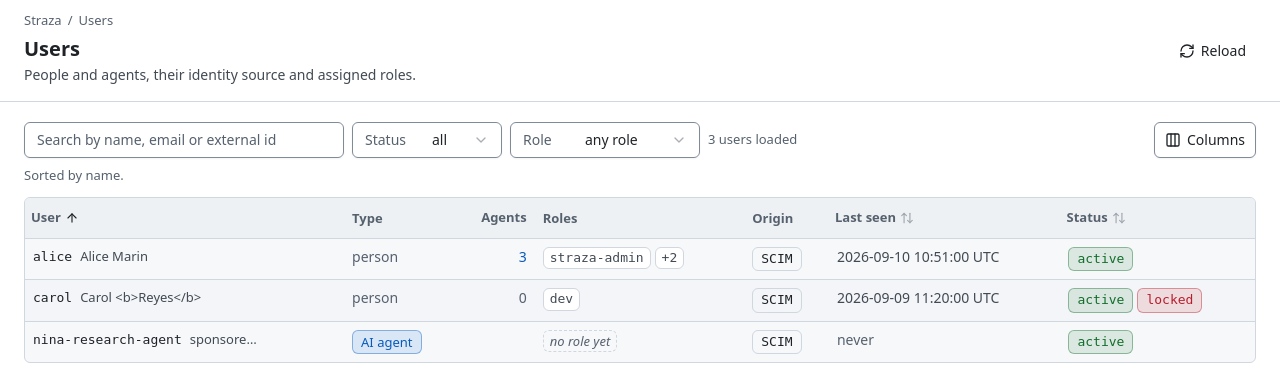
Scenario: the Users screen › sends the search to the server after the typing settles
Expected: the button with aria-label "Open alice" is shown, x1=25 y1=238 x2=1255 y2=280
In the field named "Search users": (184, 140) x1=24 y1=122 x2=344 y2=158, type "zzz"
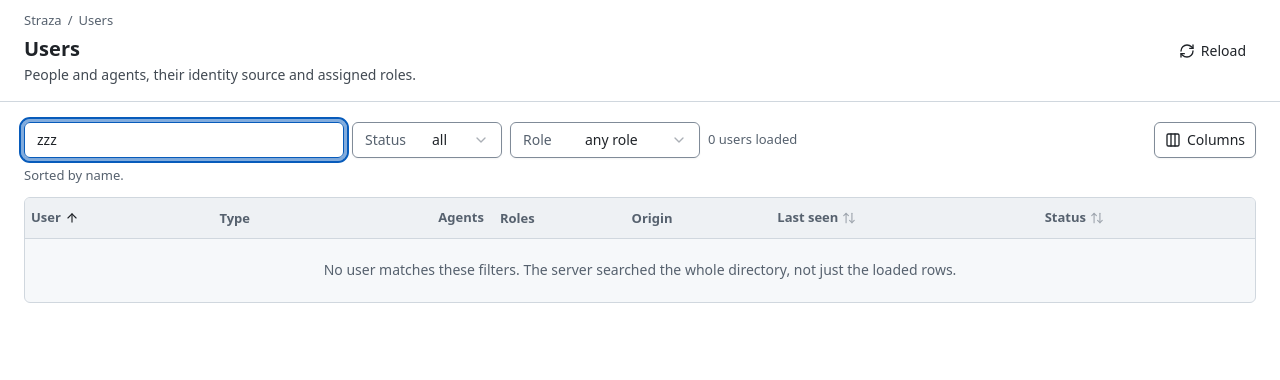
Now the text "No user matches these filters. The server searched the whole directory, not just the loaded rows." is shown, box x1=324 y1=260 x2=956 y2=279
